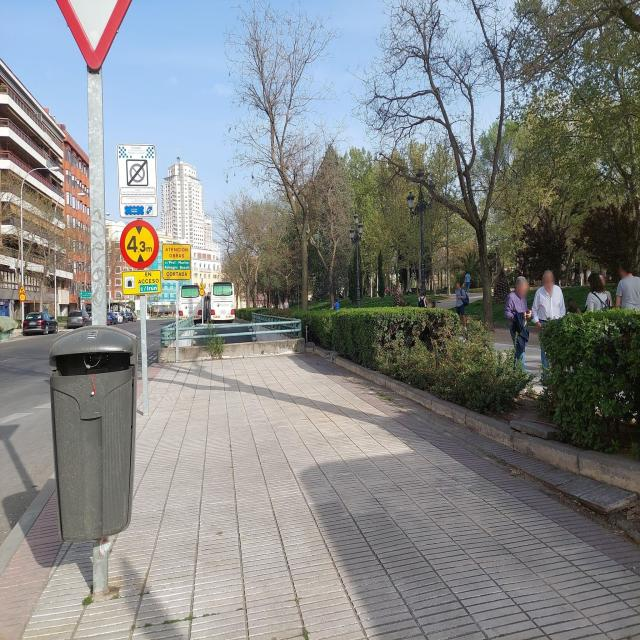car: (22, 311, 59, 336), (67, 310, 89, 328), (106, 312, 118, 326), (123, 310, 135, 322)
